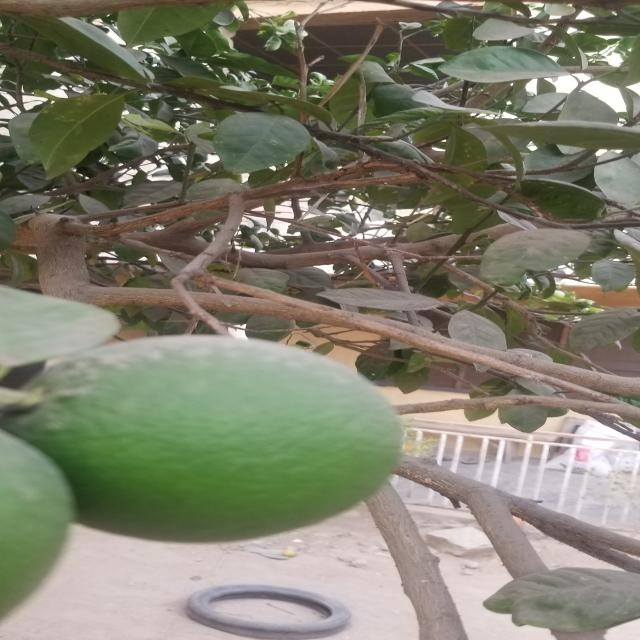agrume: (29, 338, 405, 541), (0, 434, 85, 626)
